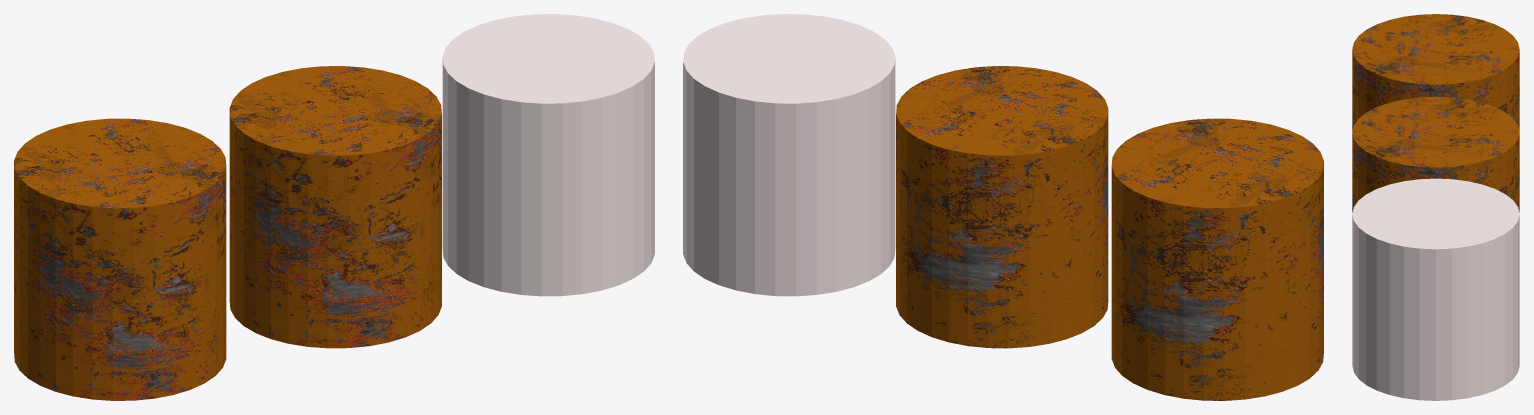
Rendered from nescauenbe.gltf.
The picture shows the model from 3 angles, left to right: view 1: azimuth 30°, elevation 25°; view 2: azimuth 150°, elevation 25°; view 3: azimuth 270°, elevation 25°; orthographic projection. The views are drawn at different scales.
Visible parts, largest first — view 1: Cylinder, Cylinder.001, Cylinder.002; view 2: Cylinder, Cylinder.001, Cylinder.002; view 3: Cylinder.001, Cylinder, Cylinder.002.
Part boxes in pixels (bbox=[...]): Cylinder: bbox=[14, 118, 226, 400]; Cylinder.001: bbox=[442, 14, 654, 296]; Cylinder.002: bbox=[229, 66, 441, 348]; Cylinder: bbox=[1111, 118, 1323, 400]; Cylinder.001: bbox=[683, 14, 895, 296]; Cylinder.002: bbox=[896, 66, 1108, 348]; Cylinder.001: bbox=[1352, 178, 1519, 400]; Cylinder: bbox=[1352, 14, 1519, 130]; Cylinder.002: bbox=[1352, 96, 1519, 212].
Size of the model in its own units: 6.65 by 2 by 2.
2 materials, 1 textured.
